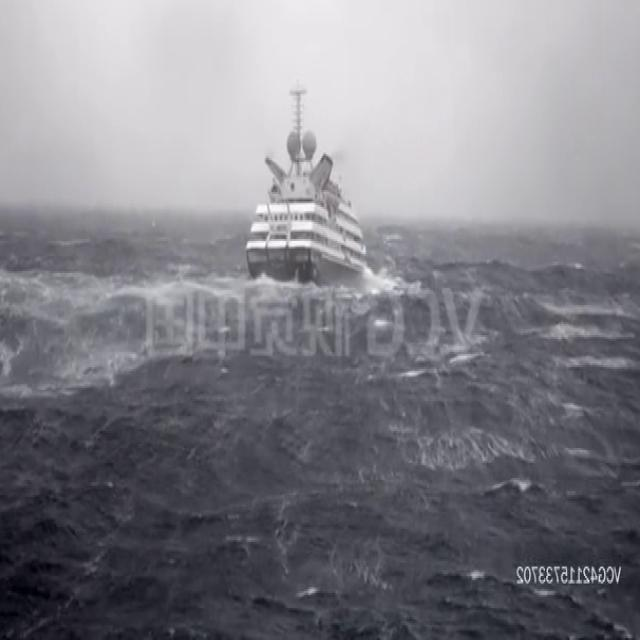passenger ship: (246, 80, 370, 285)
